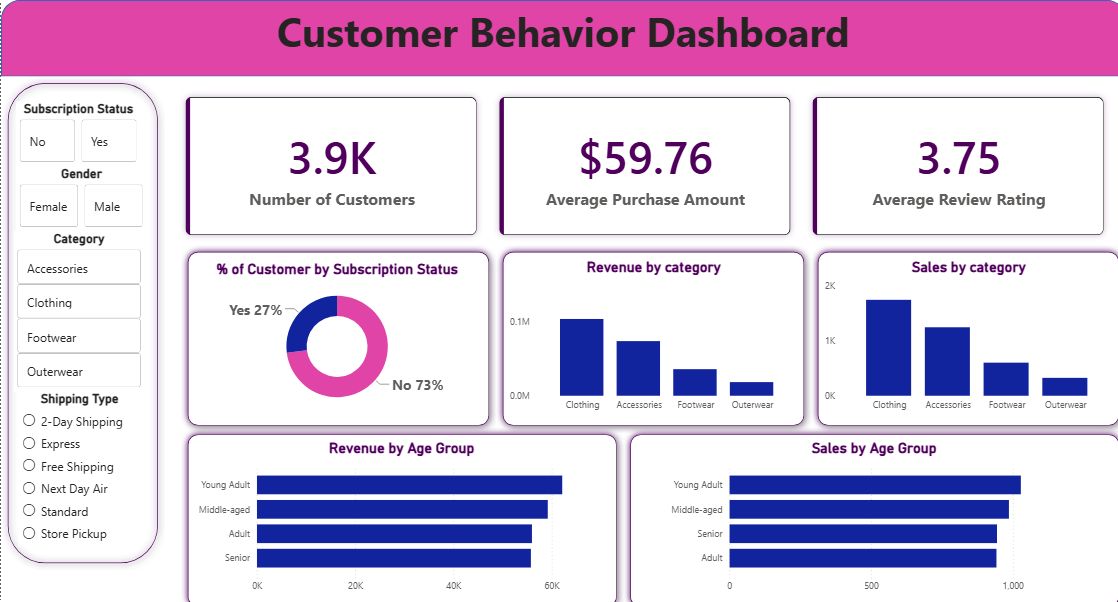

The page's visual inventory and layout, read from the dashboard file:
{"tool":"powerbi","page":{"name":"Page 1","canvas":[1500,820],"ordinal":0},"visuals":[{"type":"cardVisual","fields":{"Data":["public customer.Number of Customers","public customer.Average Purchase Amount","public customer.Average Review Rating"]},"box":[218.3,101.7,1281.7,240],"z":0},{"type":"shape","box":[0,0,1500,102],"z":1000},{"type":"textbox","box":[0,0,1500,88],"z":2000},{"type":"shape","box":[240,326,420,250],"z":3000},{"type":"donutChart","title":"% of Customer by Subscription Status","fields":{"Category":["public customer.subscription_status"],"Y":["CountNonNull(public customer.customer_id)"]},"box":[254,348,390,206],"z":4000},{"type":"shape","box":[660,326,420,250],"z":5000},{"type":"shape","box":[1080,326,420,250],"z":6000},{"type":"clusteredColumnChart","title":"Revenue by category","fields":{"Y":["Sum(public customer.purchase_amount)"],"Category":["public customer.category"]},"box":[672.9,344.3,394.3,212.9],"z":7000},{"type":"clusteredColumnChart","title":"Sales by category","fields":{"Y":["CountNonNull(public customer.customer_id)"],"Category":["public customer.category"]},"box":[1092.9,345.7,394.3,212.9],"z":8000},{"type":"shape","box":[0,101.7,218.3,658.3],"z":9000},{"type":"advancedSlicerVisual","fields":{"Values":["public customer.subscription_status"]},"box":[20,135,166.7,86.7],"z":10000},{"type":"advancedSlicerVisual","title":"Gender","fields":{"Values":["public customer.gender"]},"box":[20,221.7,175,86.7],"z":11000},{"type":"advancedSlicerVisual","fields":{"Values":["public customer.category"]},"box":[16.7,308.3,175,213.3],"z":12000},{"type":"listSlicer","fields":{"Values":["public customer.shipping_type"]},"box":[23.3,521.7,163.3,208.3],"z":13000},{"type":"shape","box":[240,570,590,250],"z":14000},{"type":"clusteredBarChart","title":"Revenue by Age Group","fields":{"Y":["Sum(public customer.purchase_amount)"],"Category":["public customer.age_group"]},"box":[253.3,586.7,561.7,213.3],"z":15000},{"type":"shape","box":[830,570,670,250],"z":16000},{"type":"clusteredBarChart","title":"Sales by Age Group","fields":{"Y":["CountNonNull(public customer.customer_id)"],"Category":["public customer.age_group"]},"box":[883.3,586.7,561.7,213.3],"z":16001}]}

Visuals, with their boxes in screenshot pixels (x1, y1, x2, y2), scaled from the page's 1500x820 canvas onto the 1118x602 screenshot:
cardVisual - public customer.Number of Customers x public customer.Average Purchase Amount: region(163, 75, 1117, 251)
shape: region(0, 0, 1117, 75)
textbox: region(0, 0, 1117, 65)
shape: region(179, 239, 492, 423)
"% of Customer by Subscription Status" donutChart: region(189, 255, 480, 407)
shape: region(492, 239, 805, 423)
shape: region(805, 239, 1117, 423)
"Revenue by category" clusteredColumnChart: region(502, 253, 795, 409)
"Sales by category" clusteredColumnChart: region(815, 254, 1108, 410)
shape: region(0, 75, 163, 558)
advancedSlicerVisual - public customer.subscription_status: region(15, 99, 139, 163)
"Gender" advancedSlicerVisual: region(15, 163, 145, 226)
advancedSlicerVisual - public customer.category: region(12, 226, 143, 383)
listSlicer - public customer.shipping_type: region(17, 383, 139, 536)
shape: region(179, 418, 619, 601)
"Revenue by Age Group" clusteredBarChart: region(189, 431, 607, 587)
shape: region(619, 418, 1117, 601)
"Sales by Age Group" clusteredBarChart: region(658, 431, 1077, 587)
